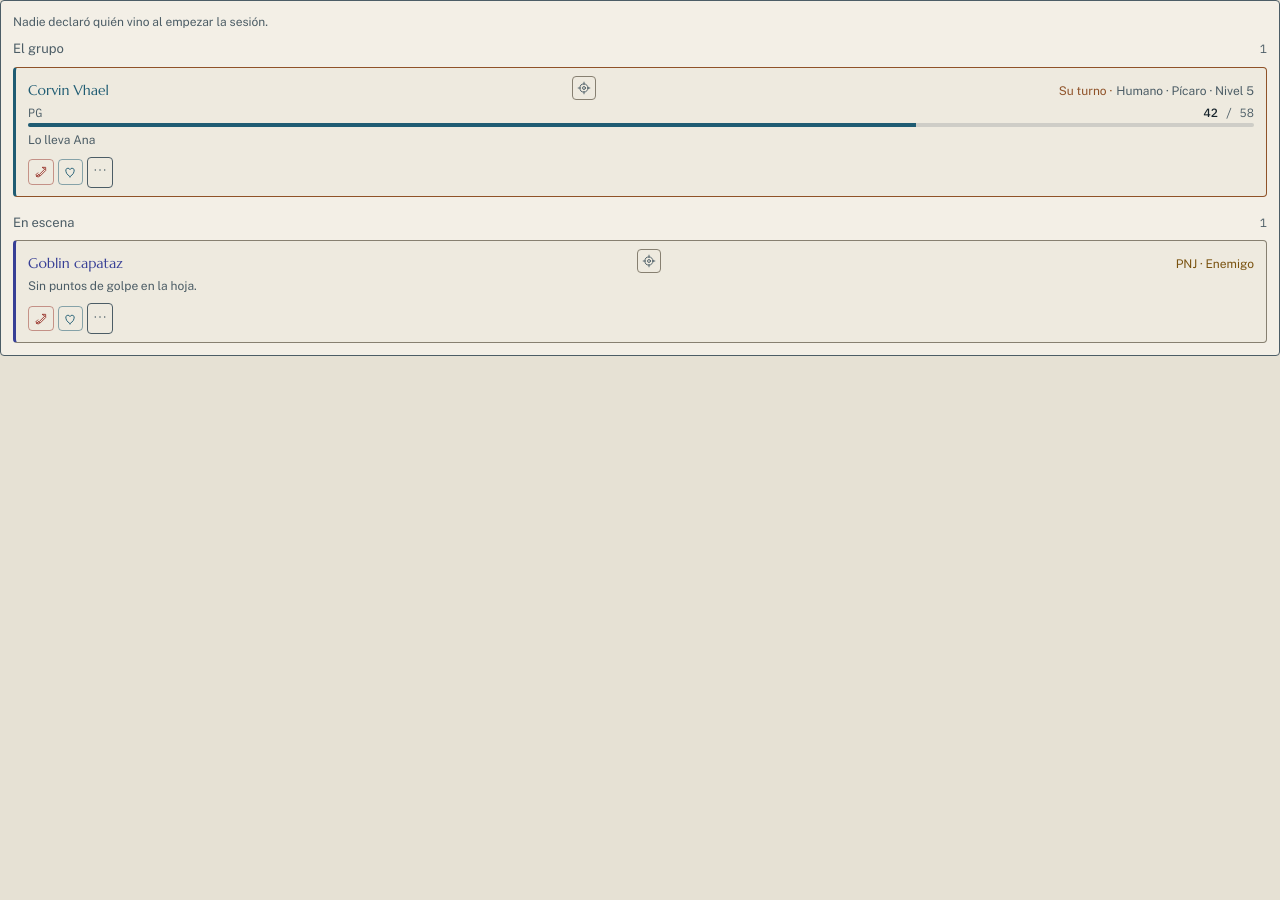
Test: el DM corrige el bando desde la columna de verdad (C-1, I-5) › el menú de acciones trae los tres ítems de bando para el personaje de jugador y para el PNJ combatiente
Click the button named "Más acciones sobre Corvin Vhael". click: (100, 172)
box: [87, 156, 113, 188]
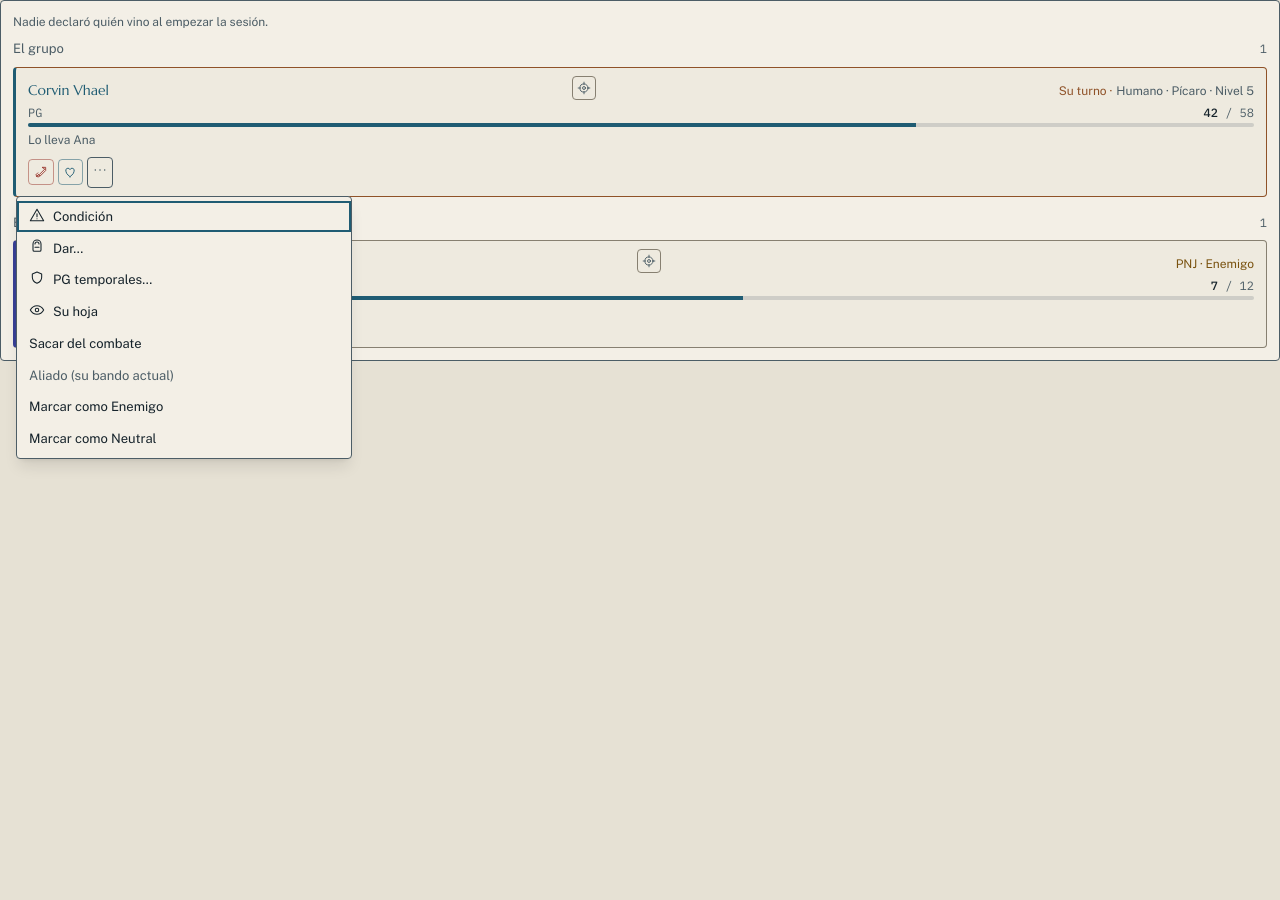
expect the menu item "Marcar como Enemigo" is shown: met, box [17, 391, 351, 422]
expect the menu item "Aliado (su bando actual)" is shown: met, box [17, 360, 351, 391]
Click the button named "Más acciones sobre Corvin Vhael". click: (100, 172)
box: [87, 156, 113, 188]
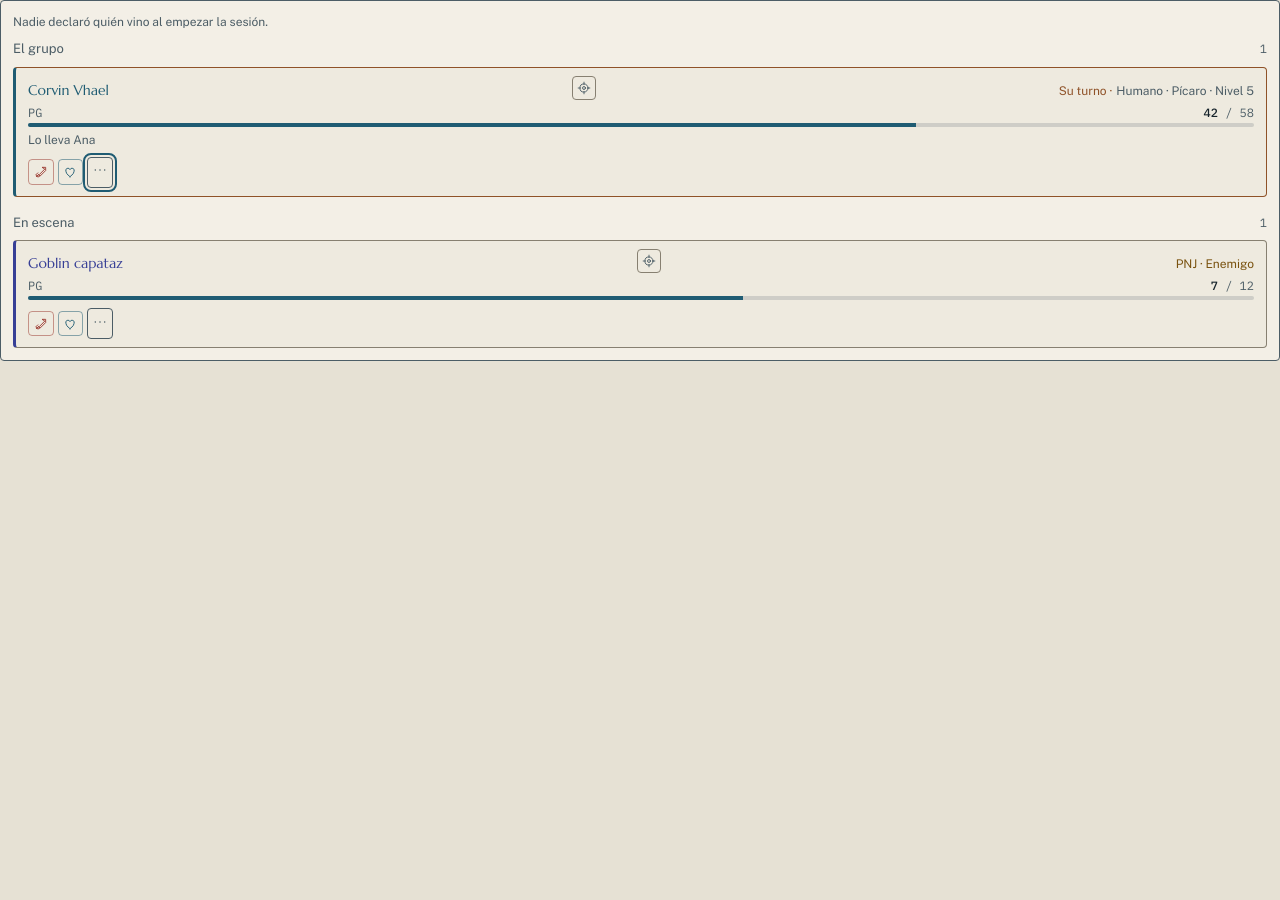
Click the button named "Más acciones sobre Goblin capataz". click: (100, 324)
box: [87, 308, 113, 339]
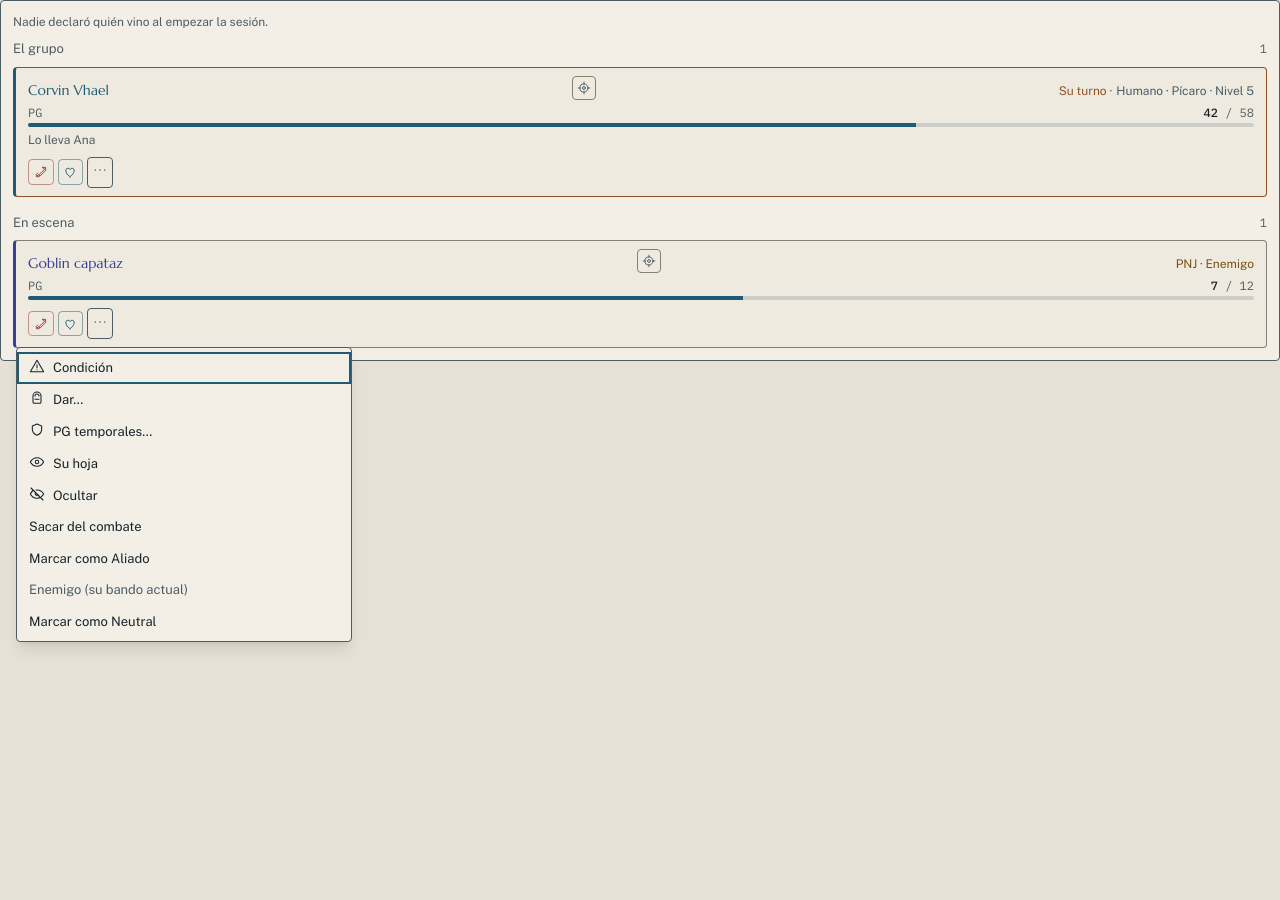
expect the menu item "Enemigo (su bando actual)" is shown: met, box [17, 574, 351, 606]
